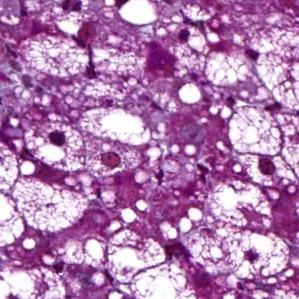ballooning: (102, 227, 169, 285), (224, 230, 292, 282), (24, 121, 85, 174), (228, 106, 284, 158), (203, 44, 254, 89)
